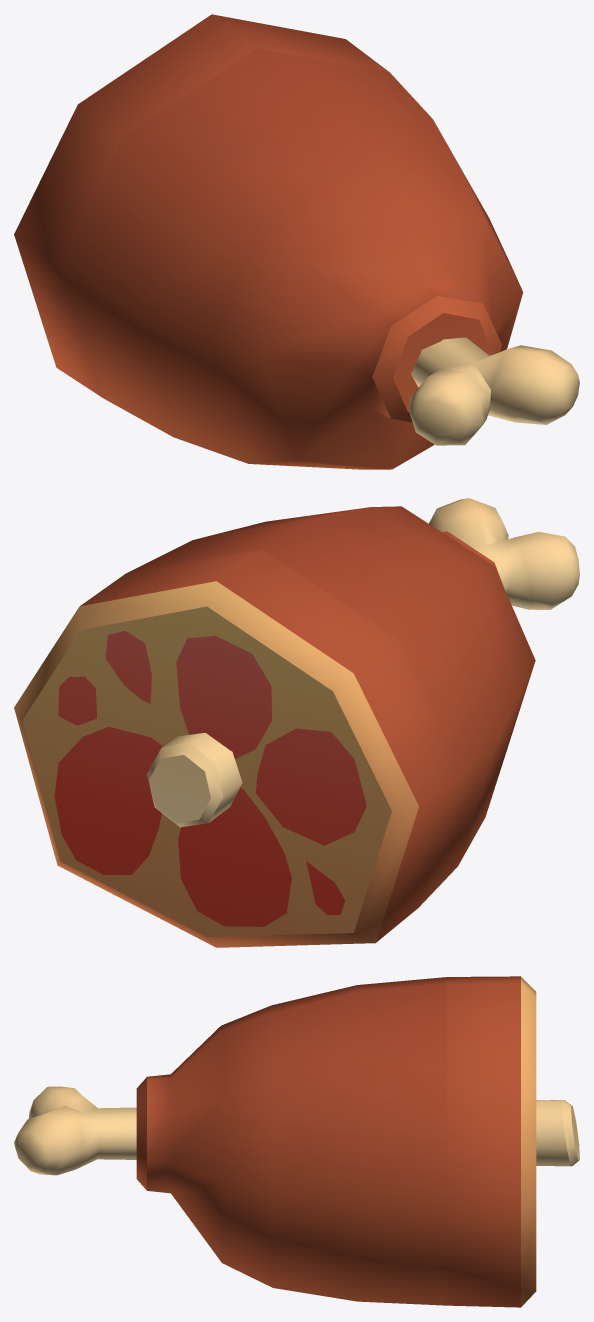
The model's file is Meat_1_A.glb.
The picture shows the model from 3 angles, top to bottom: view 1: azimuth 30°, elevation 25°; view 2: azimuth 150°, elevation 25°; view 3: azimuth 270°, elevation 25°; orthographic projection. The views are drawn at different scales.
Visible parts, largest first — view 1: Meat_1_A; view 2: Meat_1_A; view 3: Meat_1_A.
Boxes of the visible parts, bbox=[...] form: Meat_1_A: bbox=[14, 14, 579, 469]; Meat_1_A: bbox=[14, 498, 579, 947]; Meat_1_A: bbox=[14, 976, 579, 1307].
Bounding box in the file's own units: 0.1734 × 0.1499 × 0.259.
1 material, 1 textured.
